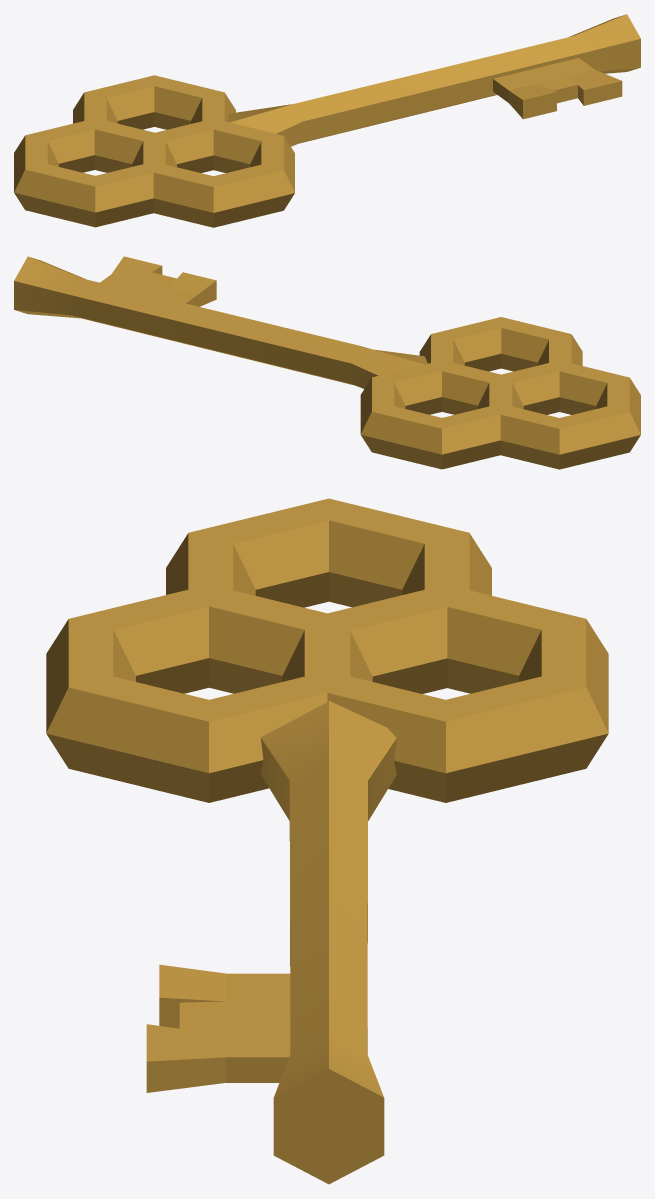
The model's file is Key.fbx.
3 views of the same model, one above another, from view 1: azimuth 30°, elevation 25°; view 2: azimuth 150°, elevation 25°; view 3: azimuth 270°, elevation 25° (orthographic). The views are drawn at different scales.
Visible parts, largest first — view 1: Key; view 2: Key; view 3: Key.
Boxes of the visible parts, x1,y1,x2,y2 form: Key: (14, 14, 640, 227); Key: (14, 256, 640, 469); Key: (46, 498, 608, 1184).
Size of the model in its own units: 14.74 by 1.33 by 5.86.
